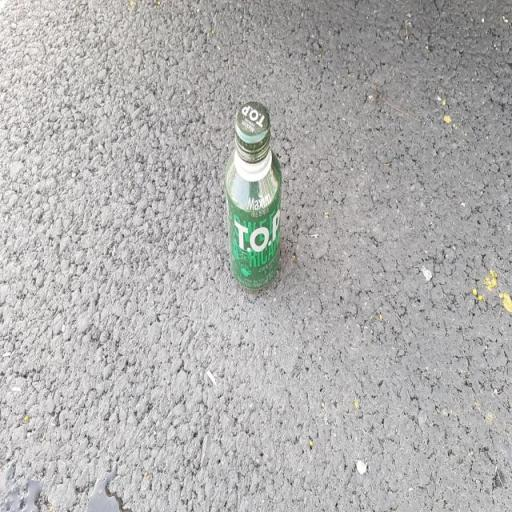metal: (205, 71, 295, 307)
